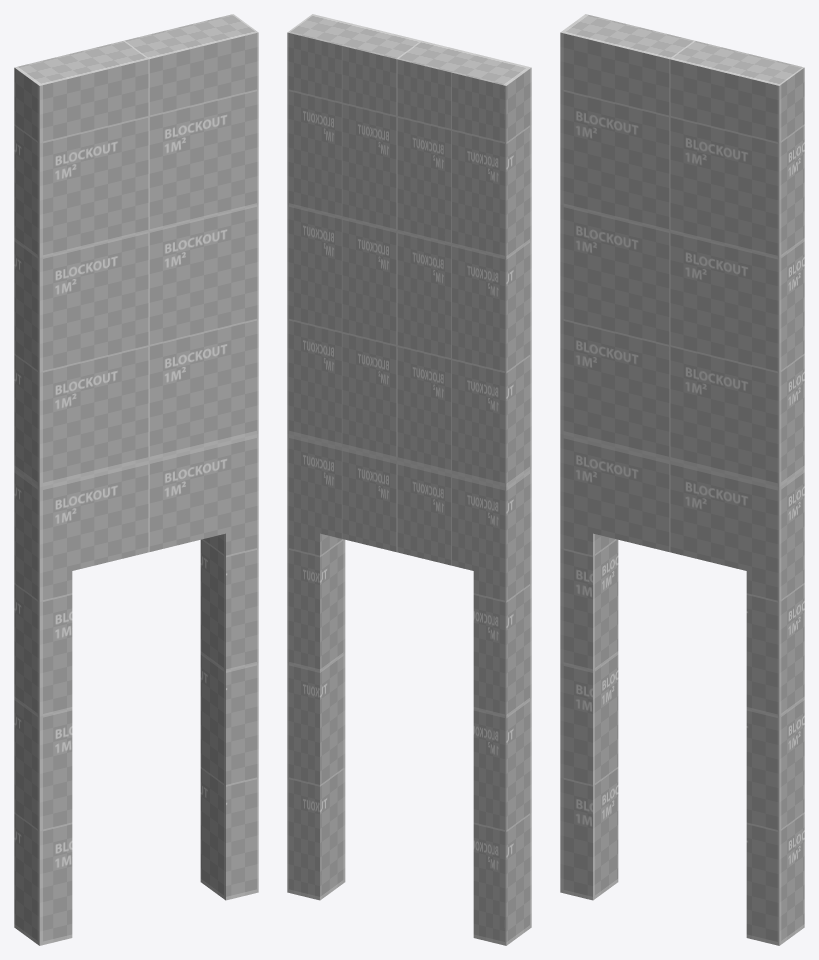
The model's file is BlockoutThinWall02Door.fbx.
3 renders of one model, left to right at view 1: azimuth 30°, elevation 25°; view 2: azimuth 150°, elevation 25°; view 3: azimuth 330°, elevation 25°, orthographic.
Visible parts, largest first — view 1: BlockoutThinWall02Door; view 2: BlockoutThinWall02Door; view 3: BlockoutThinWall02Door.
Boxes of the visible parts, x1,y1,x2,y2 form: BlockoutThinWall02Door: (14, 14, 258, 945); BlockoutThinWall02Door: (287, 14, 531, 945); BlockoutThinWall02Door: (560, 14, 804, 945).
Size of the model in its own units: 200 by 750 by 40.
